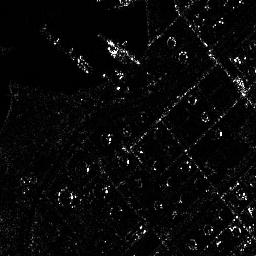ship: (44, 32, 89, 74)
